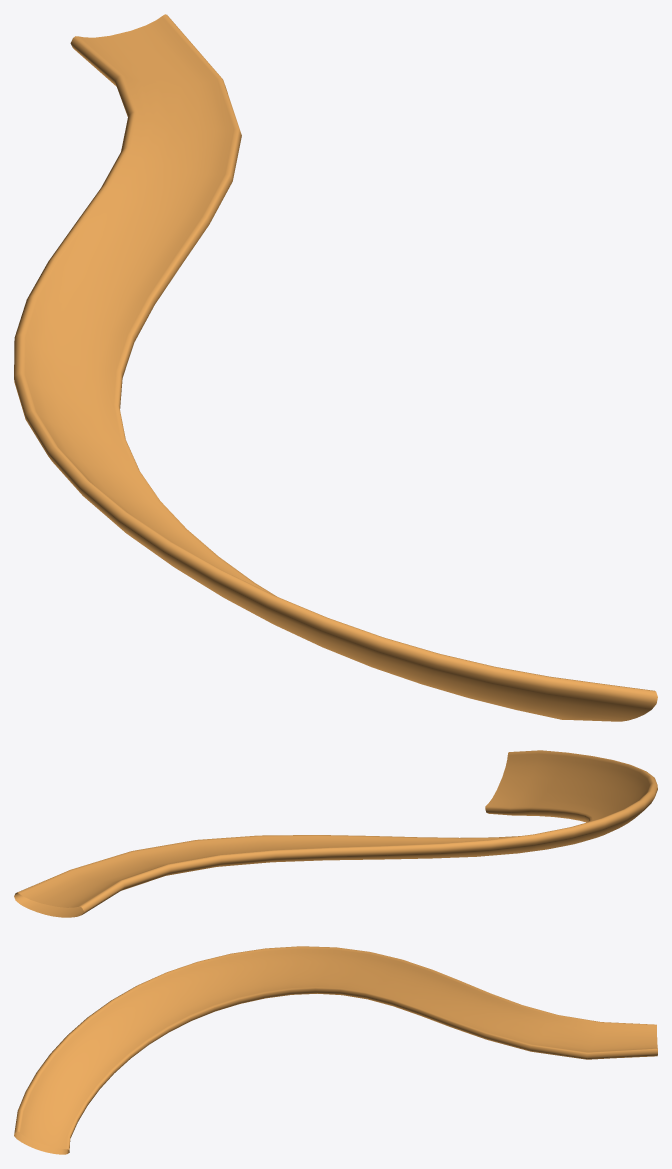
File: top.fbx
3 renders of one model, top to bottom at view 1: azimuth 30°, elevation 25°; view 2: azimuth 150°, elevation 25°; view 3: azimuth 270°, elevation 25°, orthographic. The views are drawn at different scales.
Visible parts, largest first — view 1: first_part.002; view 2: first_part.002; view 3: first_part.002.
Part boxes in pixels (x1,y1,x2,y2): first_part.002: [14, 14, 657, 721]; first_part.002: [14, 750, 657, 917]; first_part.002: [14, 946, 657, 1154].
Bounding box in the file's own units: 2171 × 1116 × 4640.
